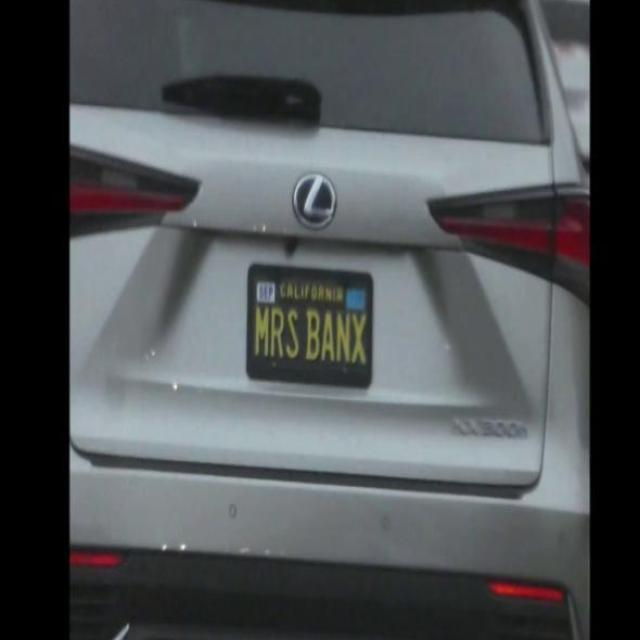license-plate: (233, 258, 396, 378)
